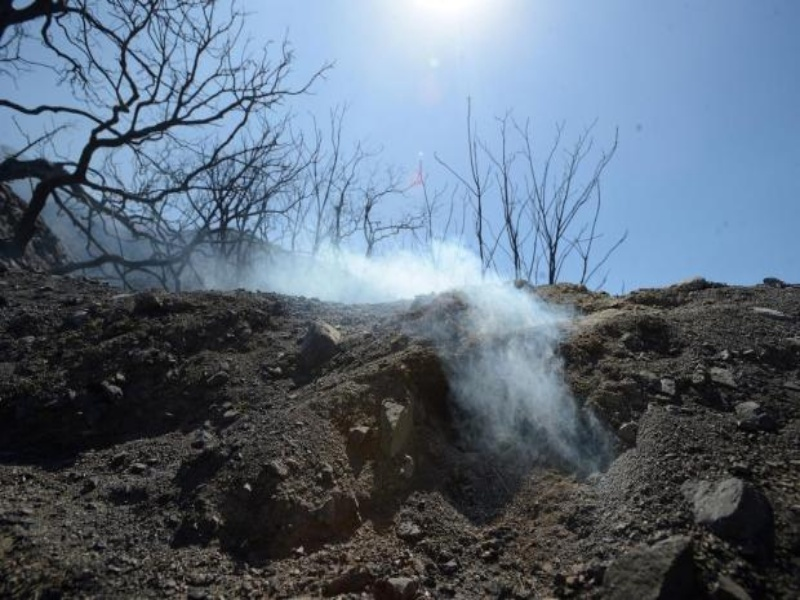smoke: (401, 248, 580, 454)
